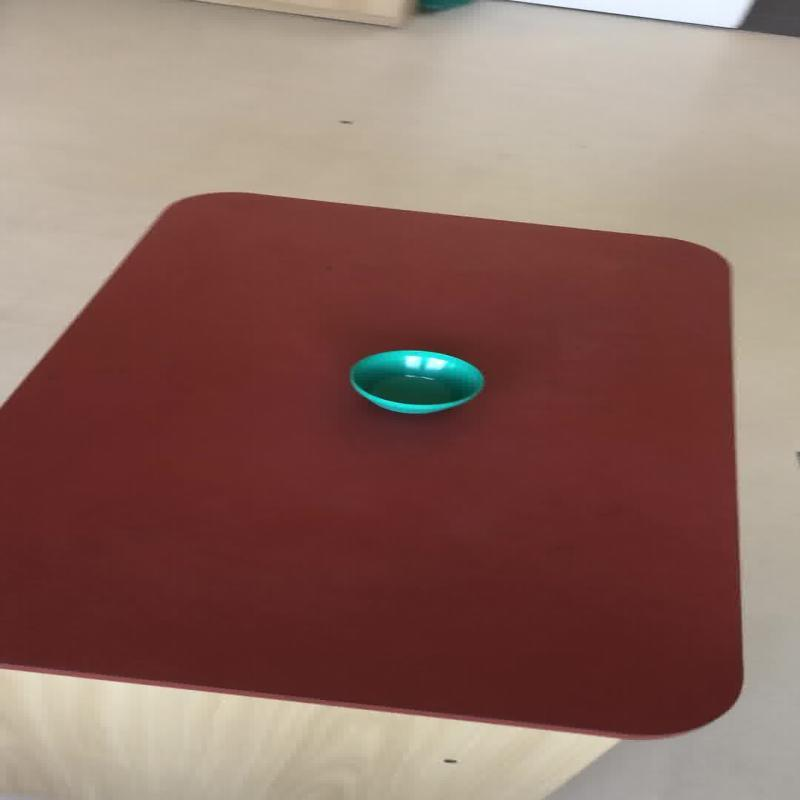bowl: (346, 348, 484, 414)
